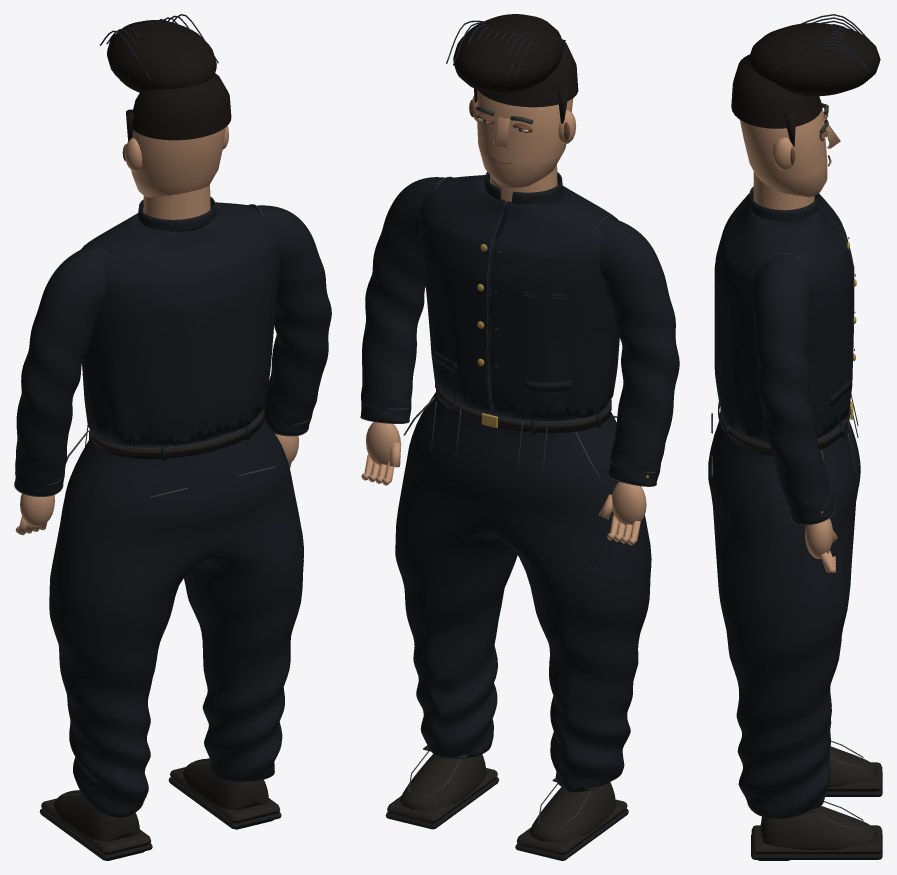
The picture shows the model from 3 angles, left to right: view 1: azimuth 30°, elevation 25°; view 2: azimuth 150°, elevation 25°; view 3: azimuth 270°, elevation 25°; orthographic projection.
Visible parts, largest first — view 1: YP_V2_Sewn high waist bontan, YP_V2_Tailored coat shell, YP_V2_Set in shaped sleeve, YP_V2_Set in shaped sleeve.001, YP_Pompadour_ClothingV2, YP_SlickHair_ClothingV2, YP_Face_ClothingV2, YP_V2_Shaped loafer leather.001, YP_V2_Shaped loafer leather, YP_Neck_ClothingV2, YP_V2_Narrow leather belt, YP_V2_Loafer welt.001 (+6 smaller); view 2: YP_V2_Sewn high waist bontan, YP_V2_Tailored coat shell, YP_V2_Set in shaped sleeve, YP_V2_Set in shaped sleeve.001, YP_Pompadour_ClothingV2, YP_Face_ClothingV2, YP_V2_Shaped loafer leather.001, YP_V2_Shaped loafer leather, YP_SlickHair_ClothingV2, YP_V2_Relaxed palm, YP_V2_Loafer welt.001, YP_V2_Loafer welt (+7 smaller); view 3: YP_V2_Sewn high waist bontan, YP_V2_Tailored coat shell, YP_V2_Set in shaped sleeve.001, YP_Pompadour_ClothingV2, YP_Face_ClothingV2, YP_SlickHair_ClothingV2, YP_V2_Shaped loafer leather.001, YP_V2_Loafer welt.001, YP_V2_Shaped loafer leather, YP_Neck_ClothingV2, YP_V2_Low standing collar, YP_V2_Relaxed palm.001 (+6 smaller).
Part boxes in pixels (x1,y1,x2,y2): YP_V2_Sewn high waist bontan: (49,418,303,817); YP_V2_Tailored coat shell: (81,202,279,445); YP_V2_Set in shaped sleeve: (14,243,107,496); YP_V2_Set in shaped sleeve.001: (249,204,331,435); YP_Pompadour_ClothingV2: (107,20,216,92); YP_SlickHair_ClothingV2: (131,73,231,140); YP_Face_ClothingV2: (131,127,225,197); YP_V2_Shaped loafer leather.001: (183,758,268,810); YP_V2_Shaped loafer leather: (54,790,139,841); YP_Neck_ClothingV2: (143,184,210,219); YP_V2_Narrow leather belt: (89,407,264,455); YP_V2_Loafer welt.001: (170,767,280,823); YP_V2_Sewn high waist bontan: (395,392,651,792); YP_V2_Tailored coat shell: (419,175,619,420); YP_V2_Set in shaped sleeve: (596,215,679,485); YP_V2_Set in shaped sleeve.001: (360,177,453,423); YP_Pompadour_ClothingV2: (453,14,563,93); YP_Face_ClothingV2: (477,90,573,187); YP_V2_Shaped loafer leather.001: (400,754,486,810); YP_V2_Shaped loafer leather: (529,782,615,842); YP_SlickHair_ClothingV2: (478,39,578,107); YP_V2_Relaxed palm: (612,482,646,525); YP_V2_Loafer welt.001: (387,768,497,823); YP_V2_Loafer welt: (516,799,627,855); YP_V2_Sewn high waist bontan: (708,421,860,818); YP_V2_Tailored coat shell: (714,193,853,443); YP_V2_Set in shaped sleeve.001: (753,252,834,524); YP_Pompadour_ClothingV2: (748,23,880,96); YP_Face_ClothingV2: (740,107,827,197); YP_SlickHair_ClothingV2: (731,54,822,128); YP_V2_Shaped loafer leather.001: (760,806,877,849); YP_V2_Loafer welt.001: (751,825,882,854); YP_V2_Shaped loafer leather: (827,746,877,787); YP_Neck_ClothingV2: (753,171,814,210); YP_V2_Low standing collar: (748,186,818,220); YP_V2_Relaxed palm.001: (805,518,833,558).
Bounding box in the file's own units: 0.7204 × 1.78 × 0.3567.
